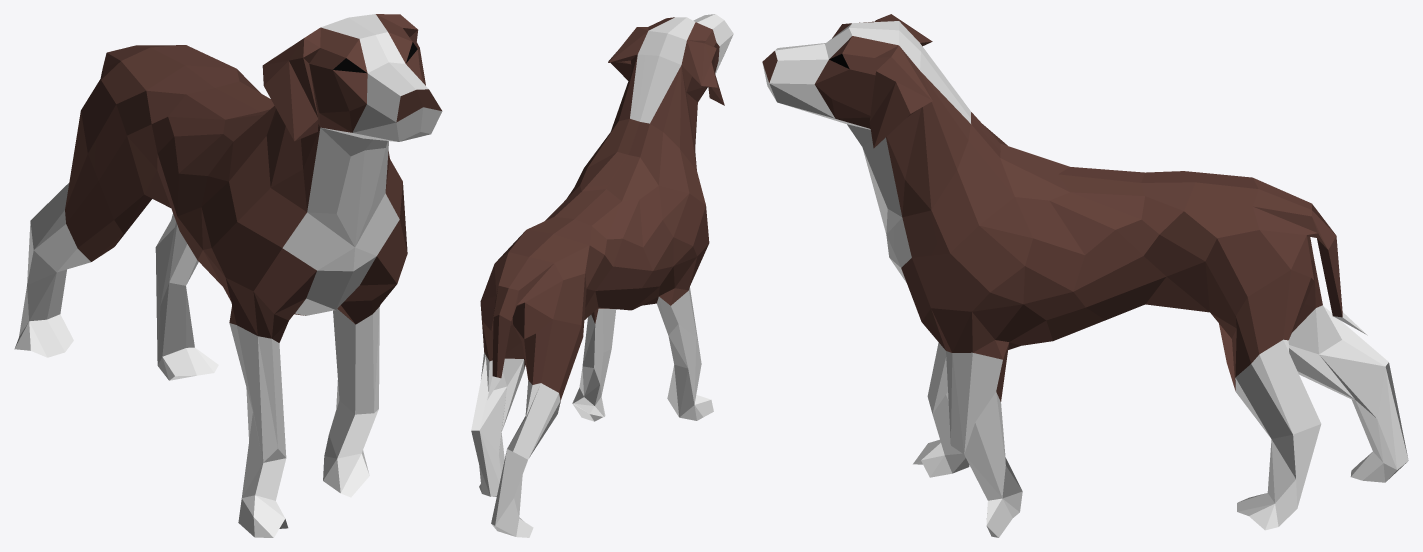
Rendered from Dog_1.FBX.
3 views of the same model, side by side, from view 1: azimuth 30°, elevation 25°; view 2: azimuth 150°, elevation 25°; view 3: azimuth 270°, elevation 25° (orthographic). The views are drawn at different scales.
Parts seen in each view (by area): view 1: Dog_1; view 2: Dog_1; view 3: Dog_1.
Boxes of the visible parts, left/top/right/bottom form: Dog_1: left=14, top=14, right=442, bottom=537; Dog_1: left=471, top=14, right=733, bottom=537; Dog_1: left=762, top=14, right=1408, bottom=537.
Size of the model in its own units: 0.2485 by 0.733 by 0.8853.
1 material, 1 textured.
